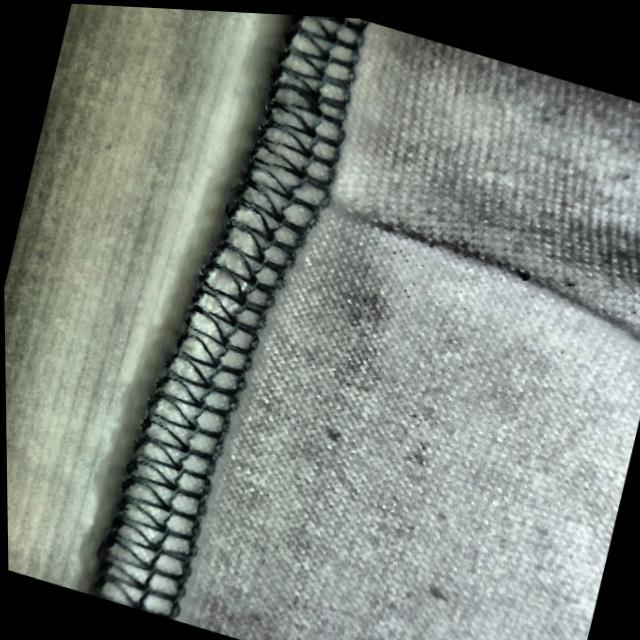seam: (223, 108, 554, 308)
